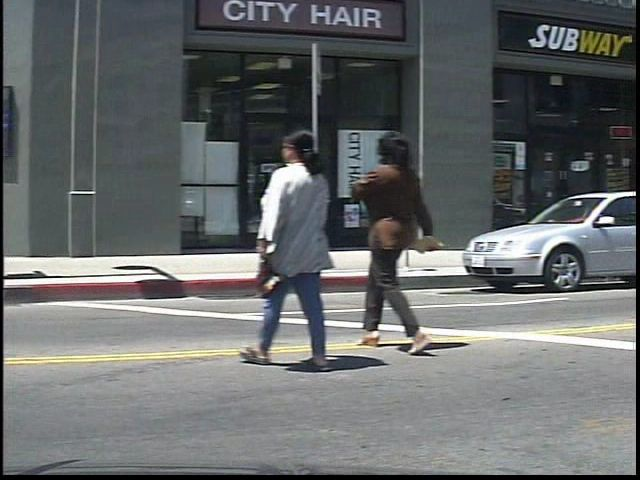person: (256, 123, 349, 373), (359, 123, 454, 356)
